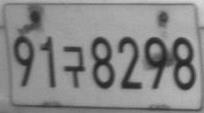1: (38, 35, 61, 88)
2: (116, 35, 142, 89)
8: (90, 35, 116, 90), (171, 35, 197, 90)
9: (143, 35, 168, 89), (12, 34, 35, 86)
구: (62, 45, 86, 88)
